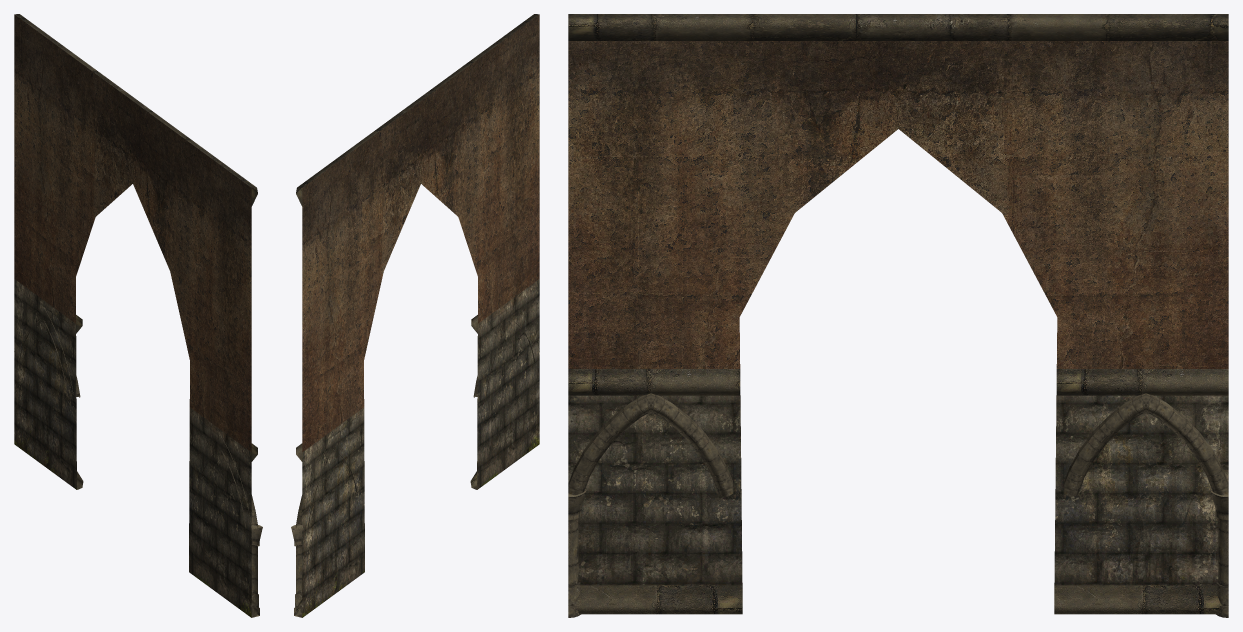
The model's file is NC_wall_doorway.DAE.
The picture shows the model from 3 angles, left to right: view 1: azimuth 30°, elevation 25°; view 2: azimuth 150°, elevation 25°; view 3: azimuth 270°, elevation 25°; orthographic projection. The views are drawn at different scales.
Visible parts, largest first — view 1: NC_wall_doorway, NC_wall_doorway_trim, NC_doorway_details; view 2: NC_wall_doorway, NC_wall_doorway_trim, NC_doorway_details; view 3: NC_wall_doorway, NC_wall_doorway_trim, NC_doorway_details.
Part boxes in pixels (x1,y1,x2,y2): NC_wall_doorway: [14, 14, 251, 451]; NC_wall_doorway_trim: [14, 279, 251, 617]; NC_doorway_details: [14, 14, 262, 617]; NC_wall_doorway: [302, 14, 539, 451]; NC_wall_doorway_trim: [302, 279, 539, 617]; NC_doorway_details: [291, 14, 539, 617]; NC_wall_doorway: [568, 41, 1228, 368]; NC_wall_doorway_trim: [568, 395, 1228, 585]; NC_doorway_details: [568, 14, 1228, 617].
Bounding box in the file's own units: 0.1177 × 4 × 4.
